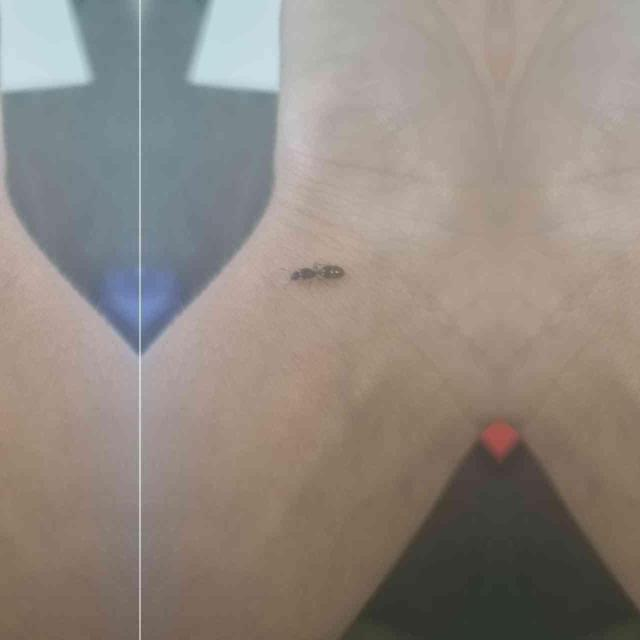Lasius: (282, 254, 344, 286)
